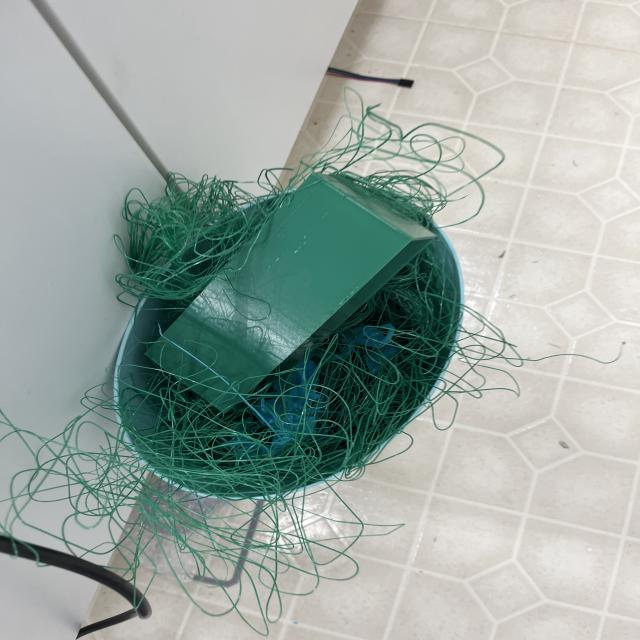spaghetti: (109, 233, 463, 503), (6, 414, 356, 618), (316, 98, 497, 242), (80, 168, 266, 308), (429, 307, 613, 432)
